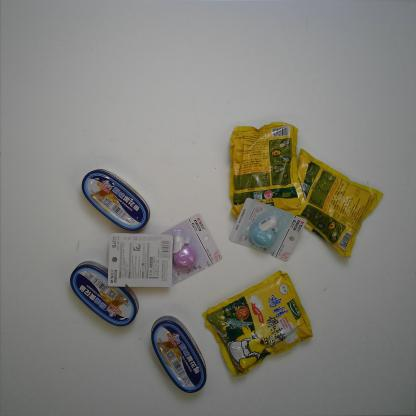Canned Food: (70, 261, 139, 327), (81, 168, 150, 232), (151, 316, 207, 393)
Seasoner: (201, 270, 313, 380), (288, 148, 385, 258), (229, 121, 306, 219)
Stationery: (229, 198, 307, 262), (156, 213, 222, 287), (107, 232, 173, 288)
